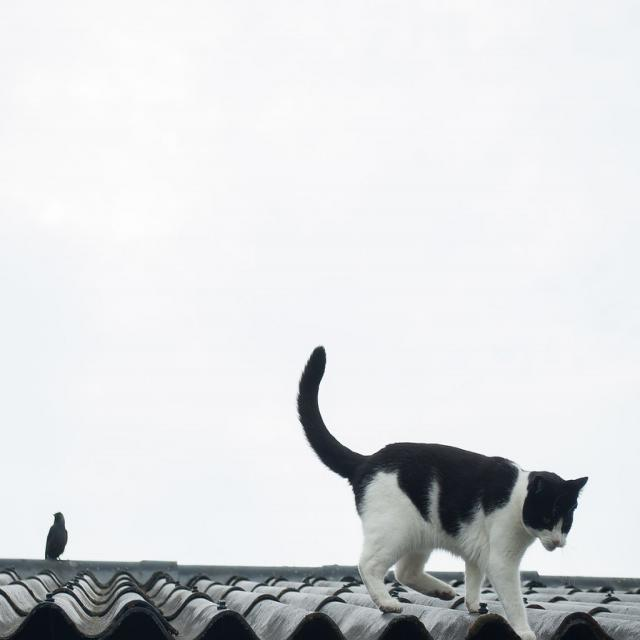bird: (43, 510, 70, 562)
